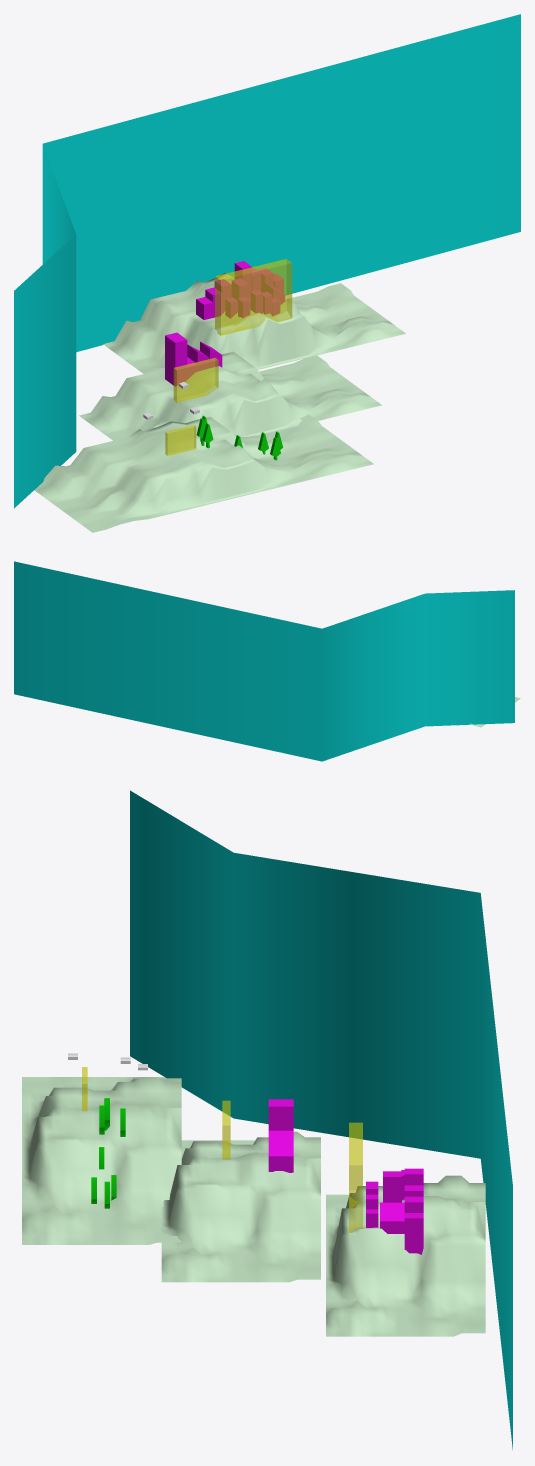
3 renders of one model, top to bottom at view 1: azimuth 30°, elevation 25°; view 2: azimuth 150°, elevation 25°; view 3: azimuth 270°, elevation 25°, orthographic. The views are drawn at different scales.
Parts seen in each view (by area): view 1: SkyPlane_001, GroundPlane_001, GroundPlane_002, GroundPlane_003, Hotspot_003, Hotspot_002, Building_001, Hotspot_001; view 2: SkyPlane_001; view 3: SkyPlane_001, GroundPlane_001, GroundPlane_003, GroundPlane_002, Hotspot_003, Building_004, Building_001, Building_0017, Building_007.
Boxes of the visible parts, box(x1,y1,x2,y2) form: SkyPlane_001: box(14, 14, 520, 508); GroundPlane_001: box(34, 414, 373, 532); GroundPlane_002: box(79, 351, 381, 440); GroundPlane_003: box(103, 273, 405, 373); Hotspot_003: box(215, 259, 292, 335); Hotspot_002: box(173, 358, 218, 402); Building_001: box(165, 332, 187, 386); Hotspot_001: box(165, 425, 196, 455); SkyPlane_001: box(14, 561, 514, 761); SkyPlane_001: box(130, 790, 512, 1449); GroundPlane_001: box(22, 1077, 181, 1244); GroundPlane_003: box(326, 1175, 485, 1336); GroundPlane_002: box(161, 1131, 320, 1282); Hotspot_003: box(349, 1122, 362, 1232); Building_004: box(268, 1138, 293, 1172); Building_001: box(268, 1099, 293, 1130); Building_0017: box(404, 1213, 423, 1254); Building_007: box(380, 1202, 404, 1233).
Bounding box in the file's own units: 722 × 231 × 379.
